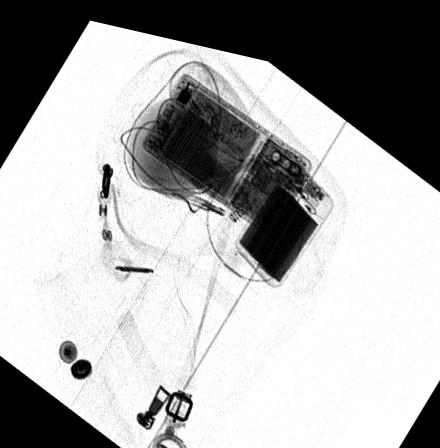Powerbank: (232, 146, 332, 274)
